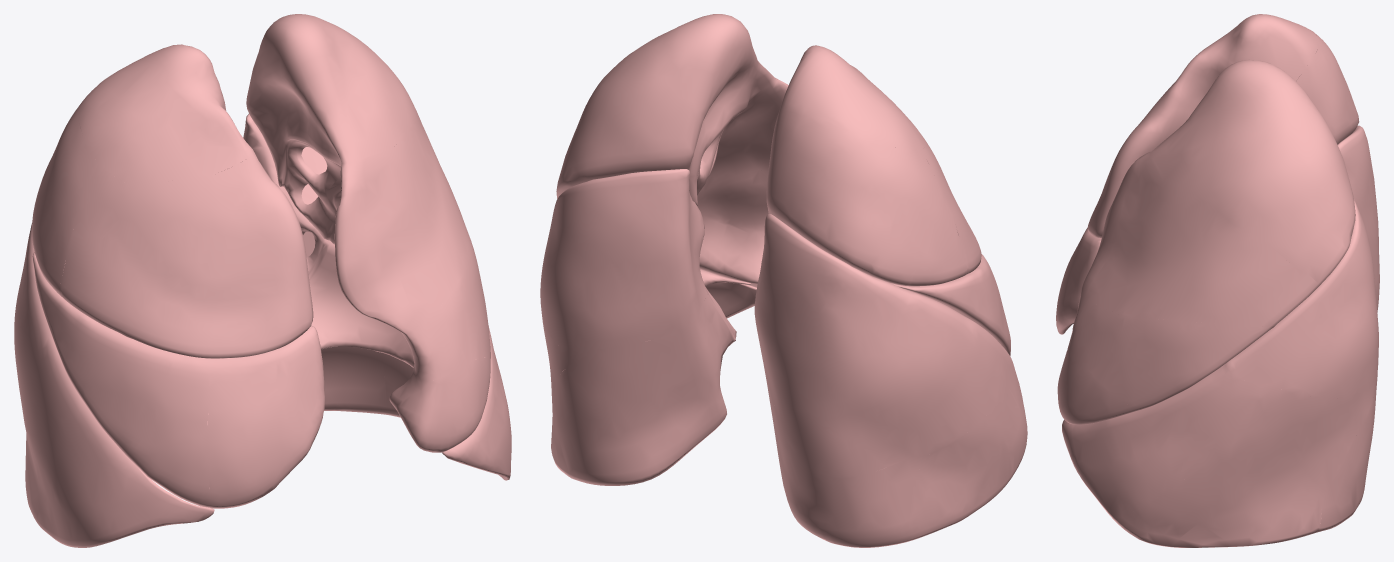
The model's file is pulmoes.glb.
The picture shows the model from 3 angles, left to right: view 1: azimuth 30°, elevation 25°; view 2: azimuth 150°, elevation 25°; view 3: azimuth 270°, elevation 25°; orthographic projection. The views are drawn at different scales.
Parts seen in each view (by area): view 1: Superior lobe of right lung, Superior lobe of left lung, Middle lobe of right lung, Inferior lobe of right lung, Inferior lobe of left lung; view 2: Inferior lobe of right lung, Inferior lobe of left lung, Superior lobe of left lung, Superior lobe of right lung, Middle lobe of right lung; view 3: Superior lobe of left lung, Inferior lobe of left lung, Superior lobe of right lung, Inferior lobe of right lung, Middle lobe of right lung.
Part boxes in pixels (x1,y1,x2,y2): Superior lobe of right lung: [32, 44, 313, 358]; Superior lobe of left lung: [246, 14, 490, 452]; Middle lobe of right lung: [32, 252, 324, 508]; Inferior lobe of right lung: [14, 223, 214, 547]; Inferior lobe of left lung: [243, 114, 511, 480]; Inferior lobe of right lung: [754, 214, 1027, 547]; Inferior lobe of left lung: [540, 169, 756, 485]; Superior lobe of left lung: [556, 14, 788, 287]; Superior lobe of right lung: [766, 45, 981, 286]; Middle lobe of right lung: [888, 254, 1010, 355]; Superior lobe of left lung: [1057, 59, 1355, 424]; Inferior lobe of left lung: [1062, 199, 1378, 547]; Superior lobe of right lung: [1087, 14, 1359, 237]; Inferior lobe of right lung: [1073, 125, 1379, 323]; Middle lobe of right lung: [1056, 227, 1101, 334].
Size of the model in its own units: 0.261 by 0.264 by 0.1857.
